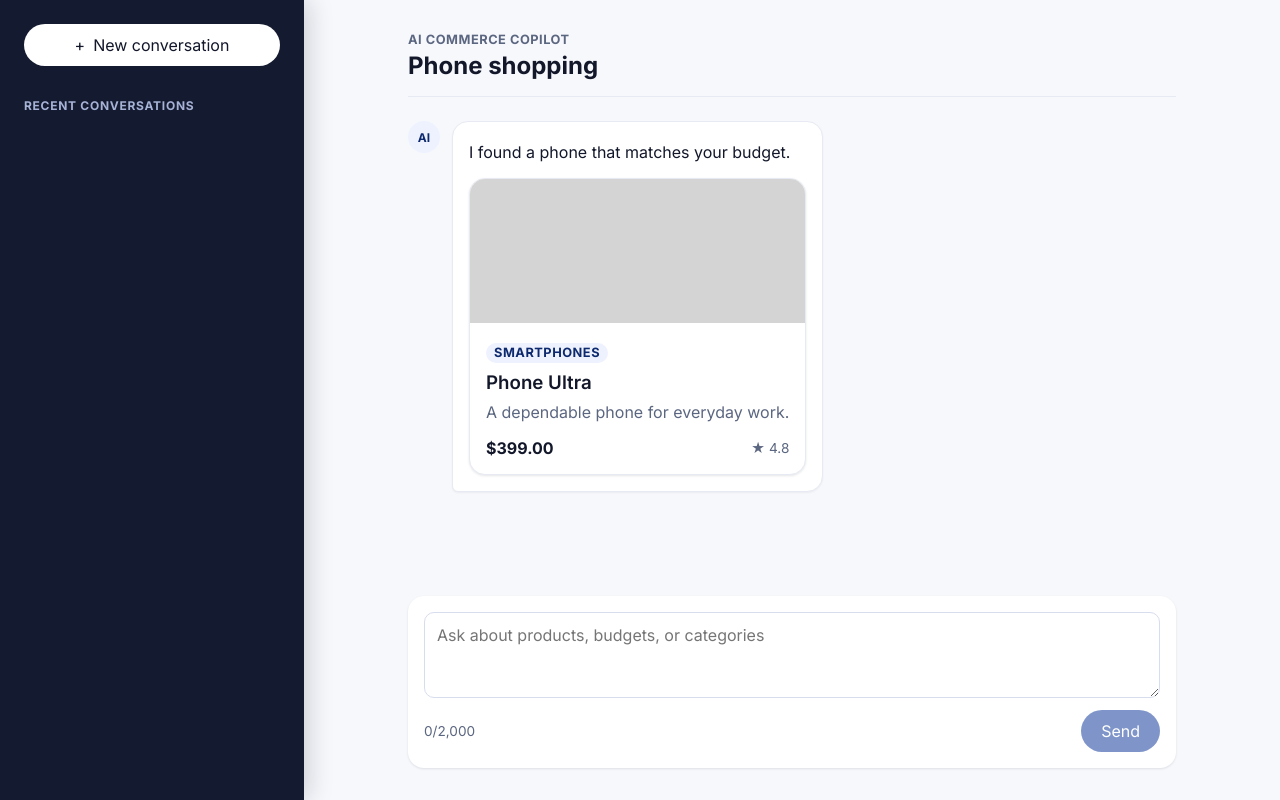
Test: ChatShell › does not offer Retry for a non-retryable model error, and preserves its own code and message
The image size is (1280, 800).
In the text box named "Message": (792, 655) [424,612,1160,698], type "Find me a phone"
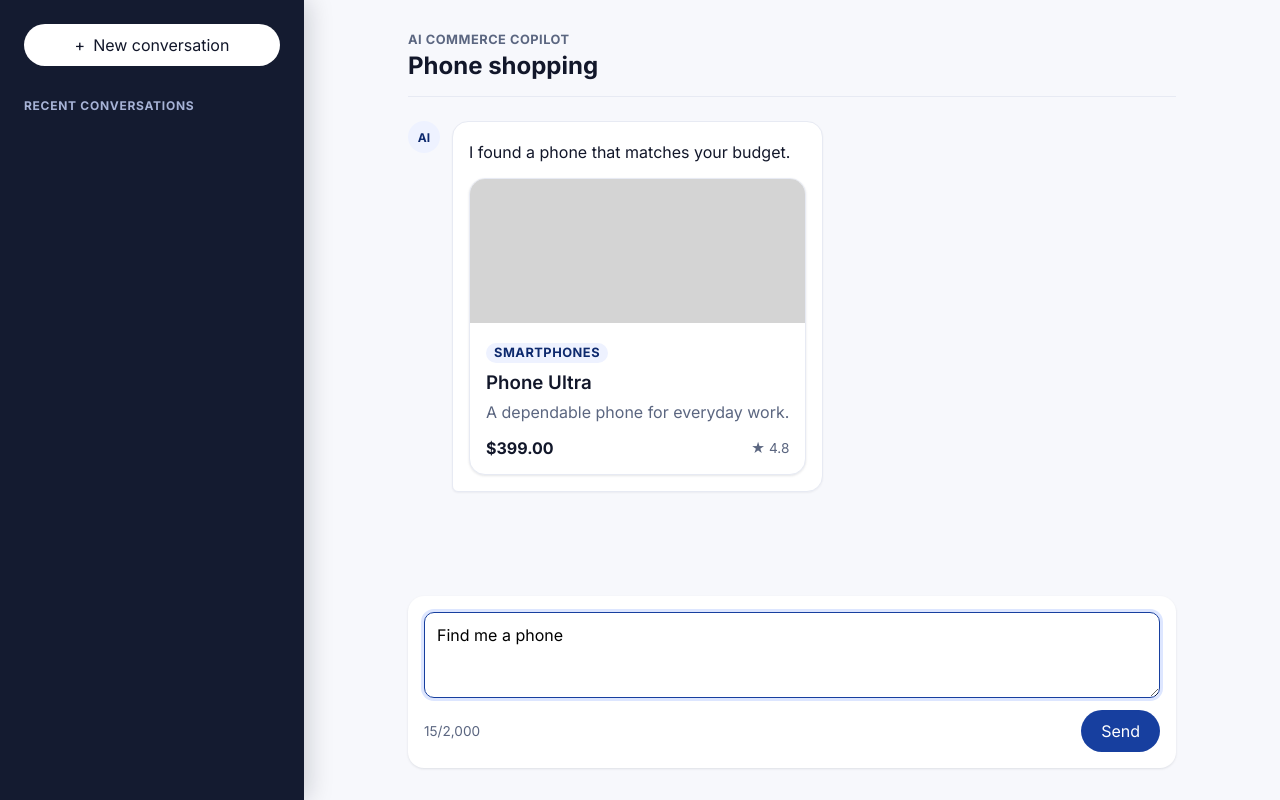
Click the button "Send": (1121, 731) [1081,710,1160,752]
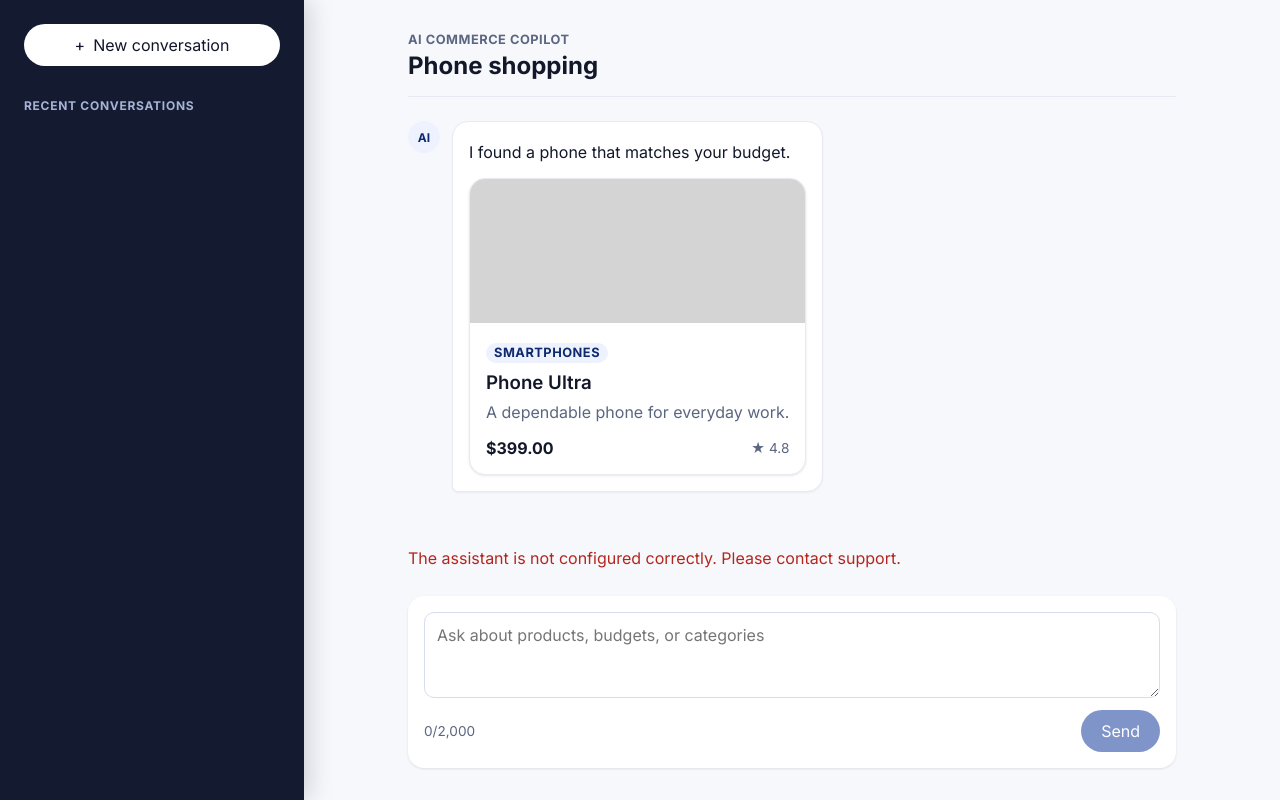
Now the text "The assistant is not configured correctly. Please contact support." is shown, box [408,548,901,568]
